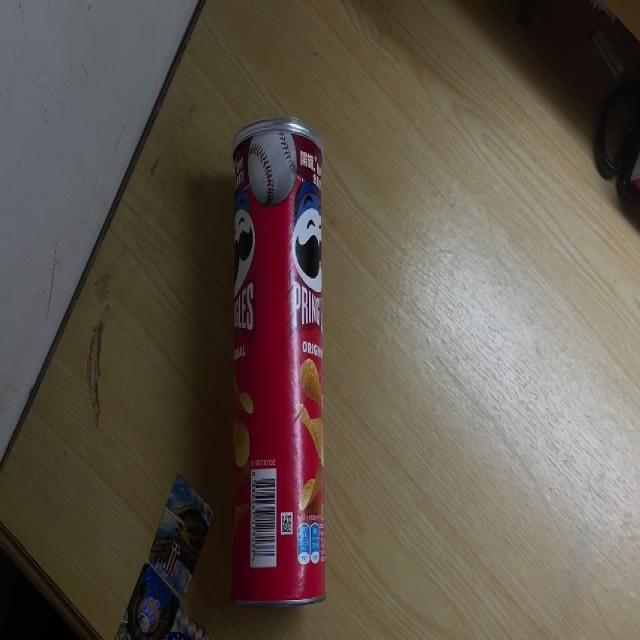Pringles: (229, 120, 327, 604)
